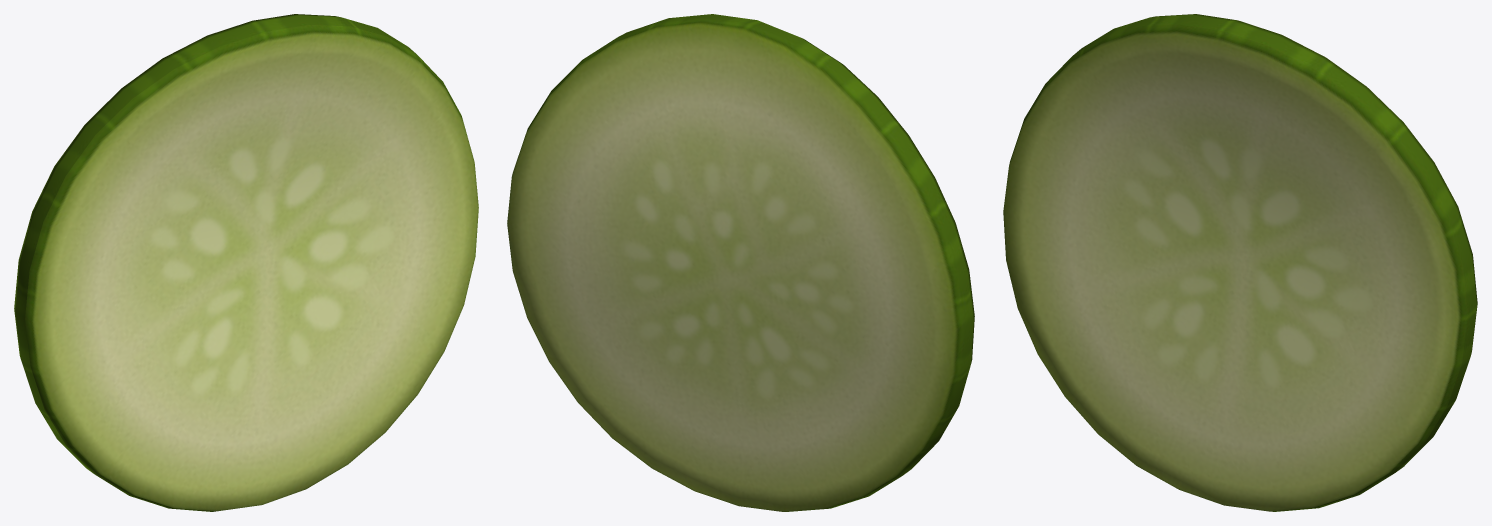
Rendered from CucumberSlice_1.fbx.
3 renders of one model, left to right at view 1: azimuth 30°, elevation 25°; view 2: azimuth 150°, elevation 25°; view 3: azimuth 330°, elevation 25°, orthographic.
Parts seen in each view (by area): view 1: CucumberSlice_1; view 2: CucumberSlice_1; view 3: CucumberSlice_1.
Part boxes in pixels (<box>): CucumberSlice_1: <box>14,14,478,511</box>; CucumberSlice_1: <box>507,14,974,511</box>; CucumberSlice_1: <box>1003,14,1477,511</box>.
Bounding box in the file's own units: 0.0398 × 0.0401 × 0.0051.
Materials: 1 (1 with a texture image).
